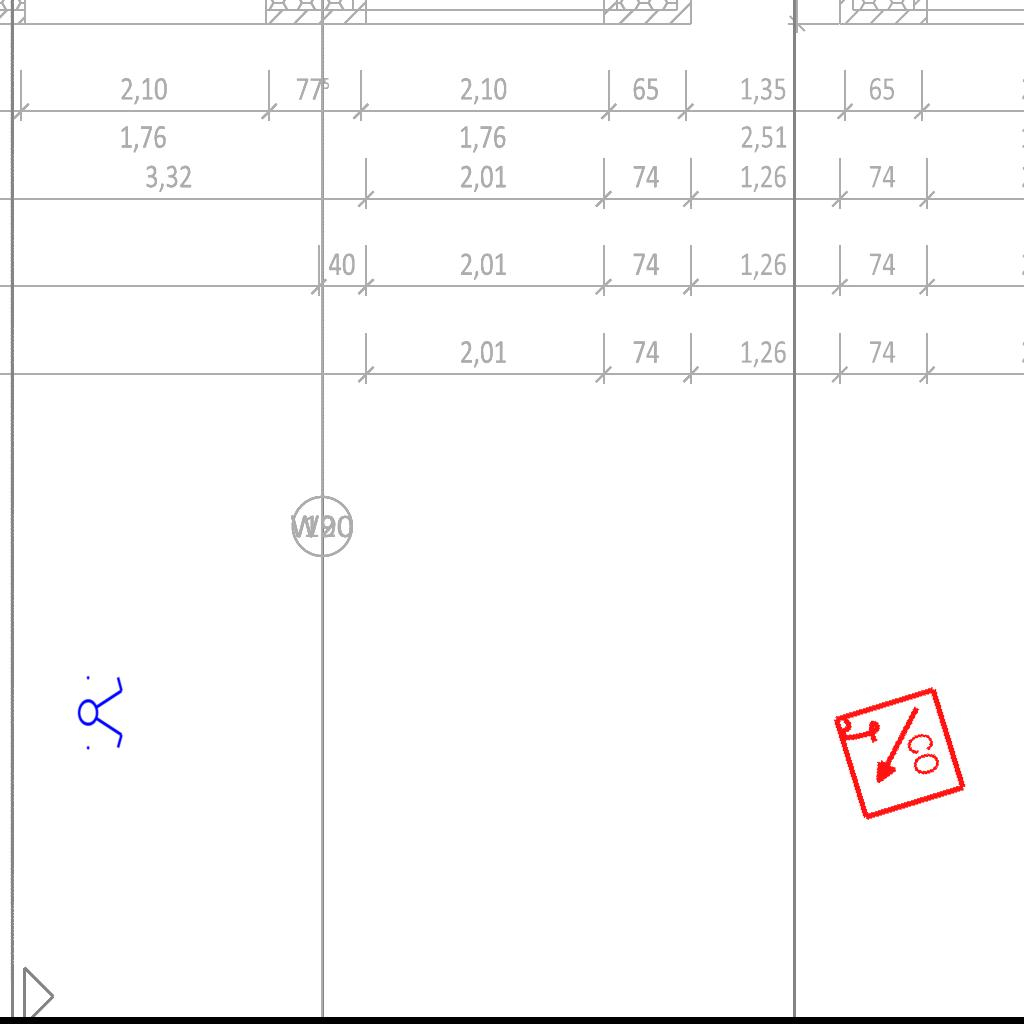ROA_Rauchmelder_optisch_mit_Signalgeber_(Sockelsirene): (827, 683, 970, 826)
Serienschalter: (77, 670, 125, 754)
